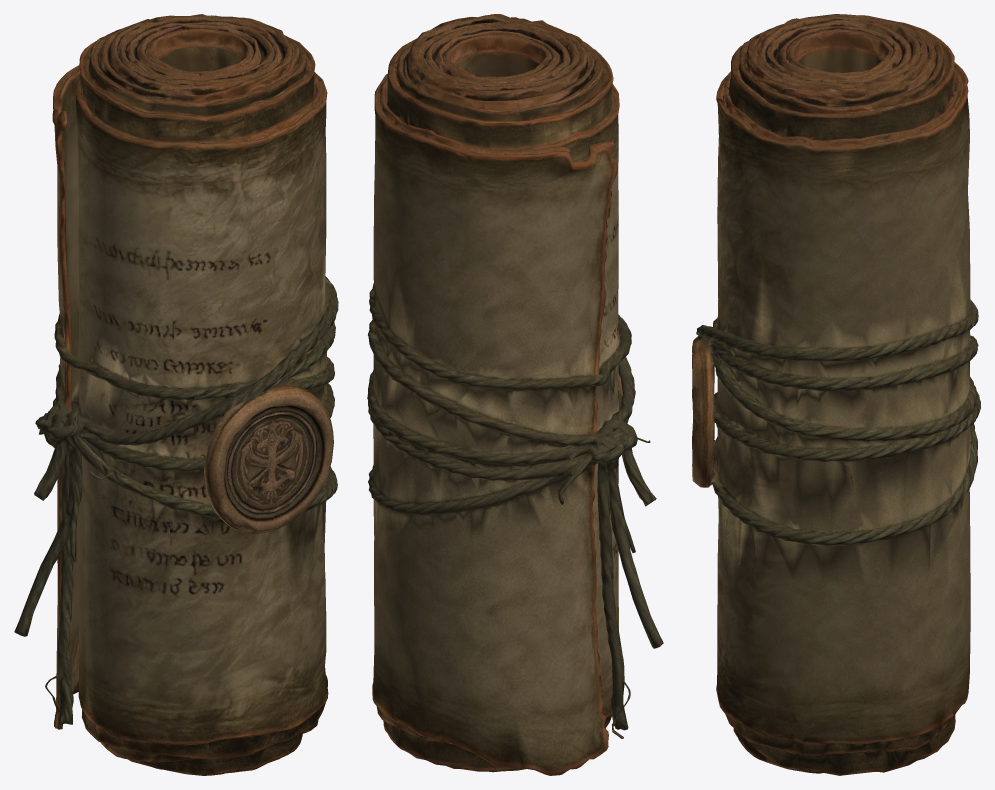
Rendered from sealed.glb.
The picture shows the model from 3 angles, left to right: view 1: azimuth 30°, elevation 25°; view 2: azimuth 150°, elevation 25°; view 3: azimuth 270°, elevation 25°; orthographic projection.
Size of the model in its own units: 0.839 by 1.9 by 0.7203.
1 material, 1 textured.
